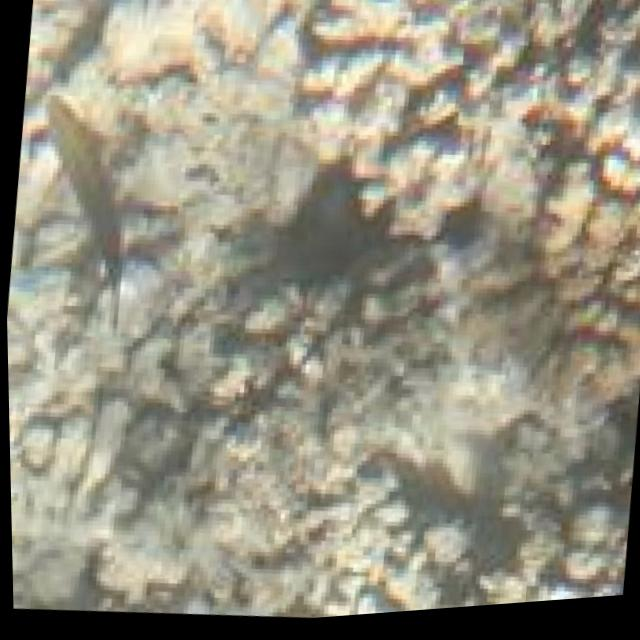Bleached Coral: (275, 0, 526, 254)
